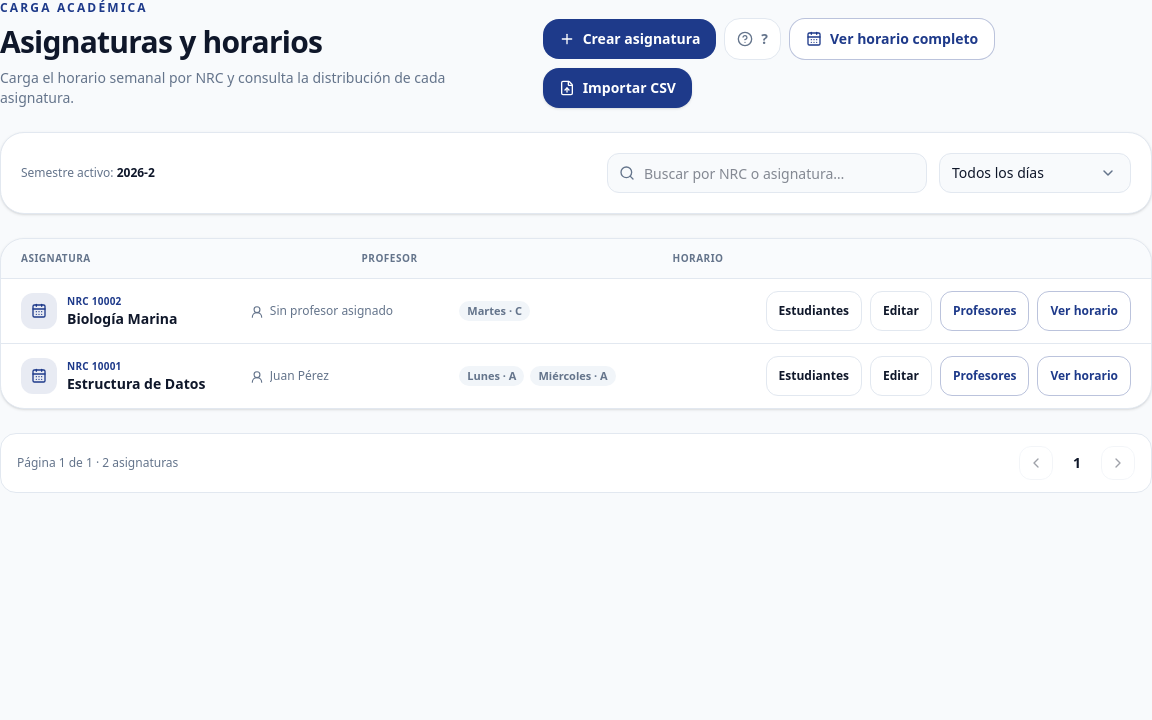
Test: SubjectsPage (asignaturas y horarios) › abre el editor y actualiza el listado y calendario con las salas para SYSTEM_ADMIN
The image size is (1152, 720).
Click the button "Editar" in the row of "10001": click(901, 376) [870,356,932,396]
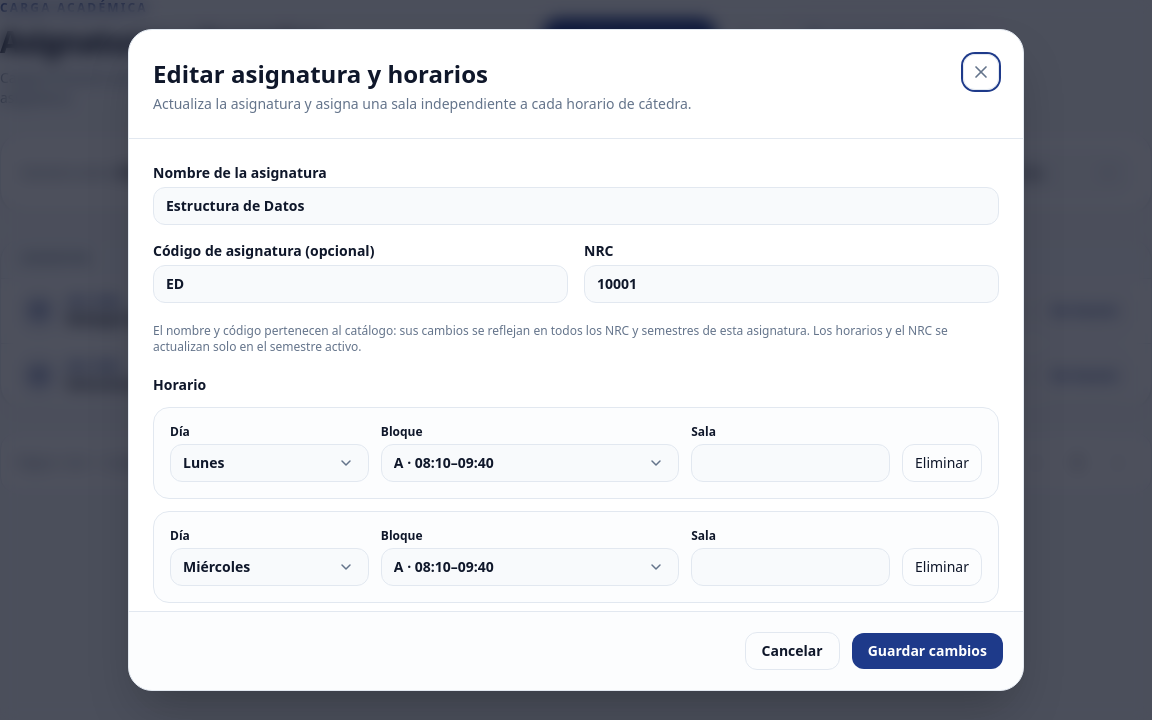
Replace the text in the field labelled "Nombre de la asignatura" with "Estructuras actualizadas": (576, 206) [153,187,999,225]
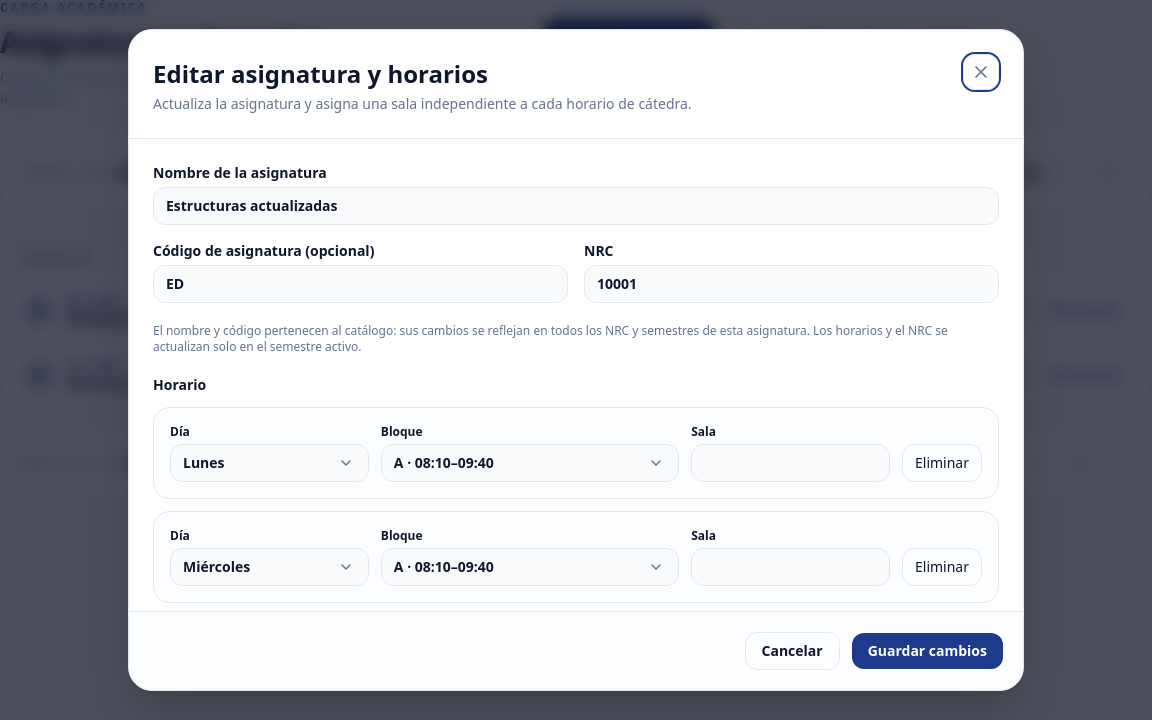
In the 1st field labelled "Sala": (791, 463) [691,444,890,482], type "Sala Norte"
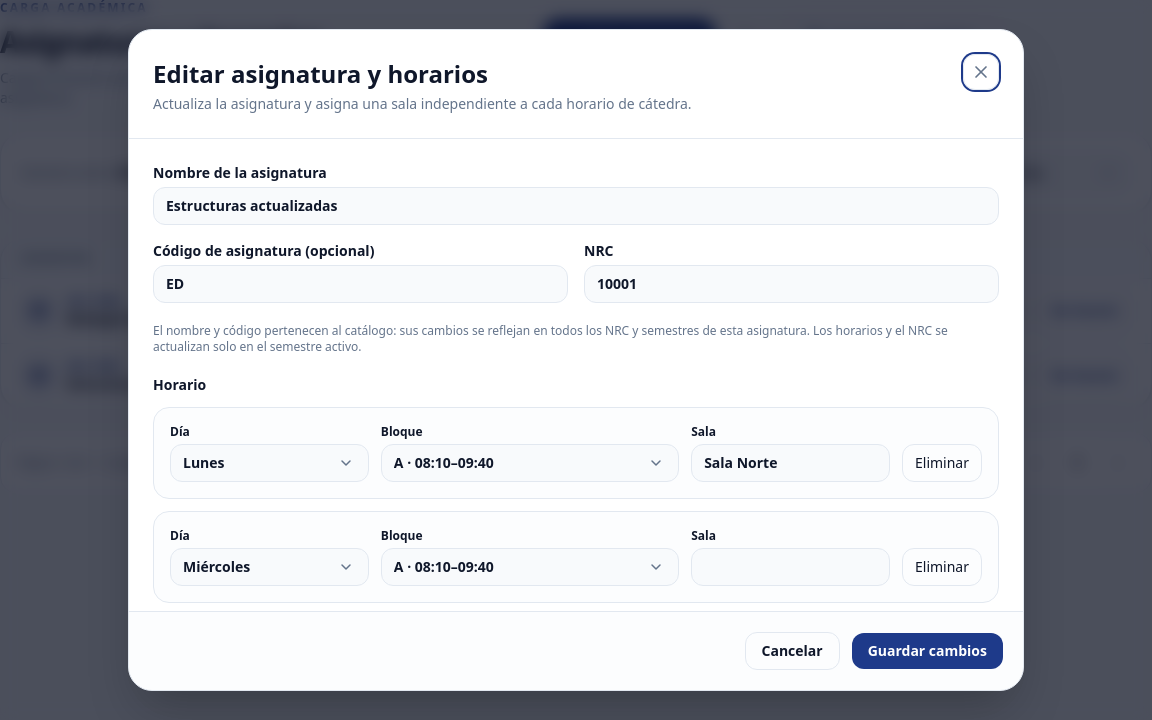
In the 2nd field labelled "Sala": (791, 567) [691,548,890,586], type "Sala Sur"
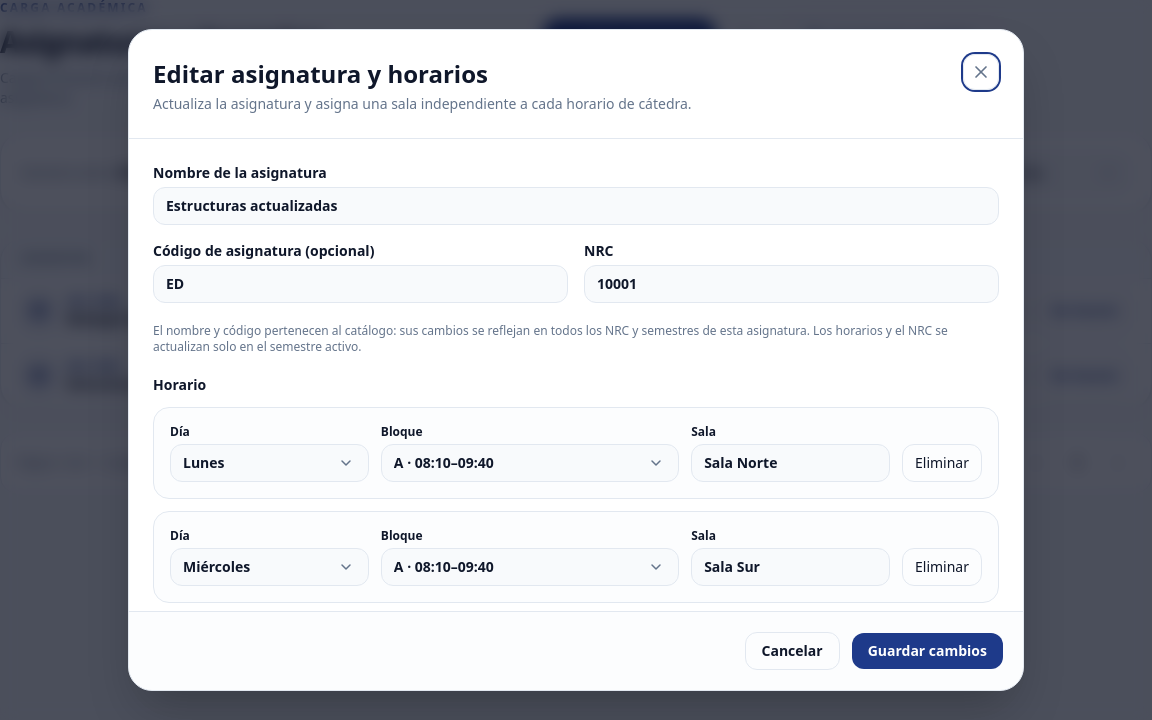
Click the button "Guardar cambios": click(927, 651) [852,633,1003,669]
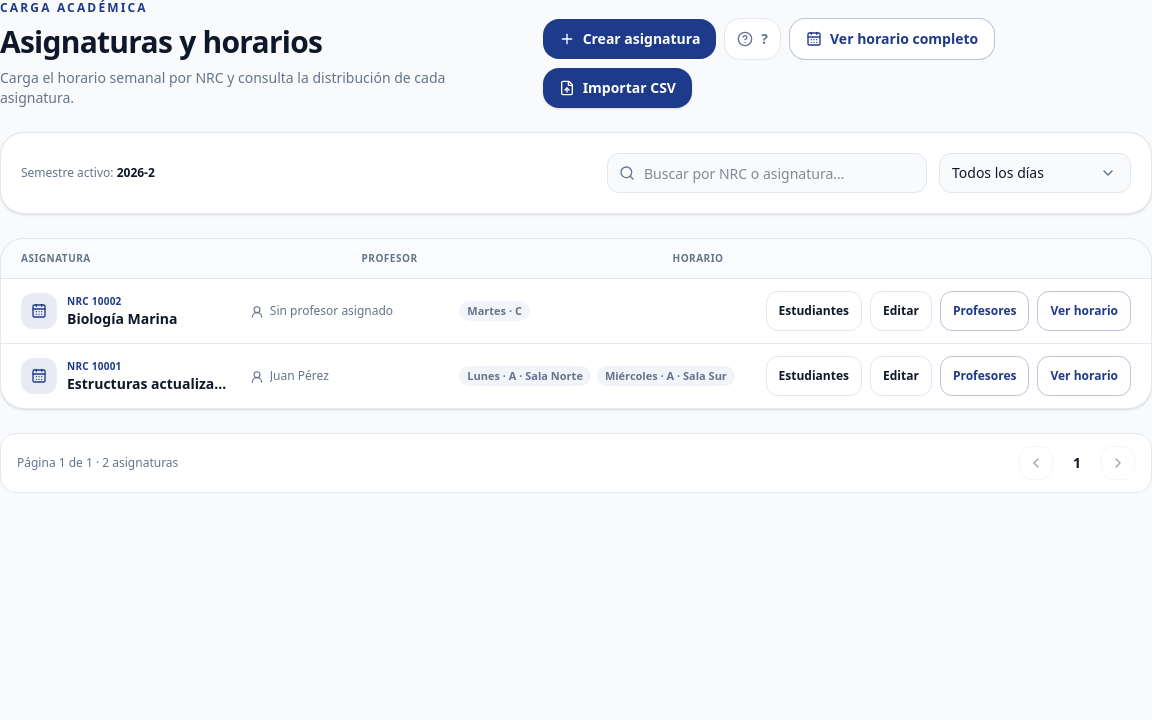
Expected: the heading "Estructuras actualizadas" is shown, [67,374,234,394]
Expected: the dialog is gone
Click the button "Ver horario completo": click(892, 39) [789,18,995,60]
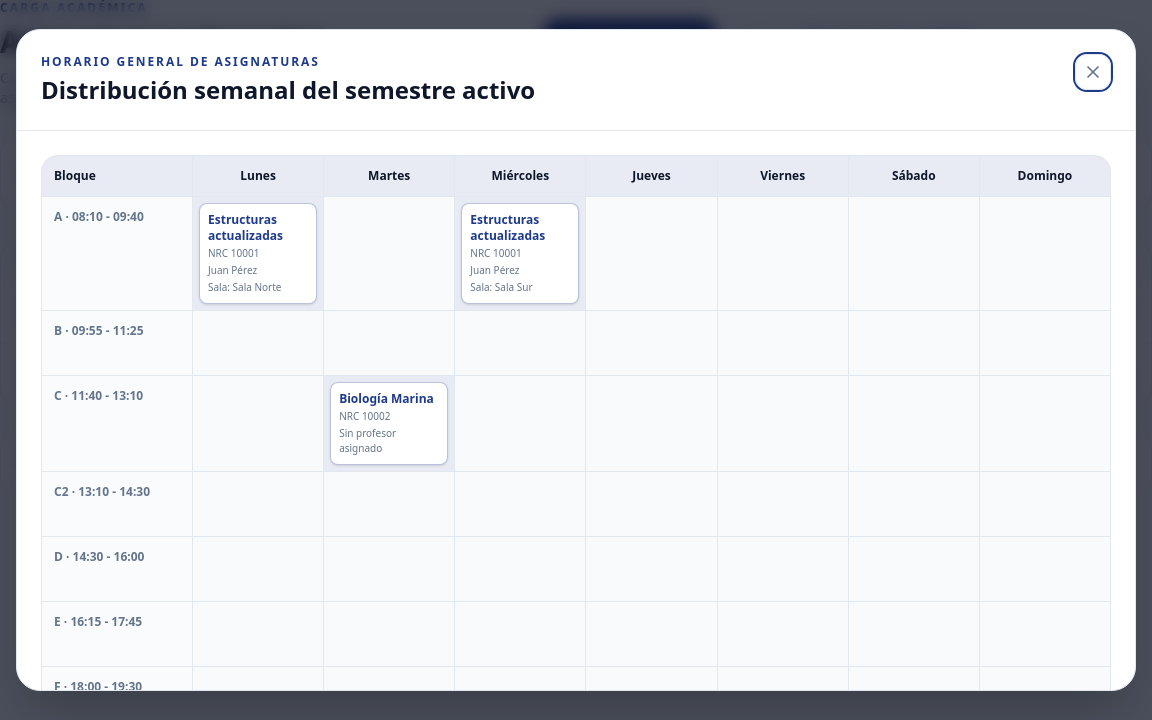
Expected: the text "Sala: Sala Norte" is shown, [208,280,282,294]
Expected: the text "Sala: Sala Sur" is shown, [470,280,533,294]
